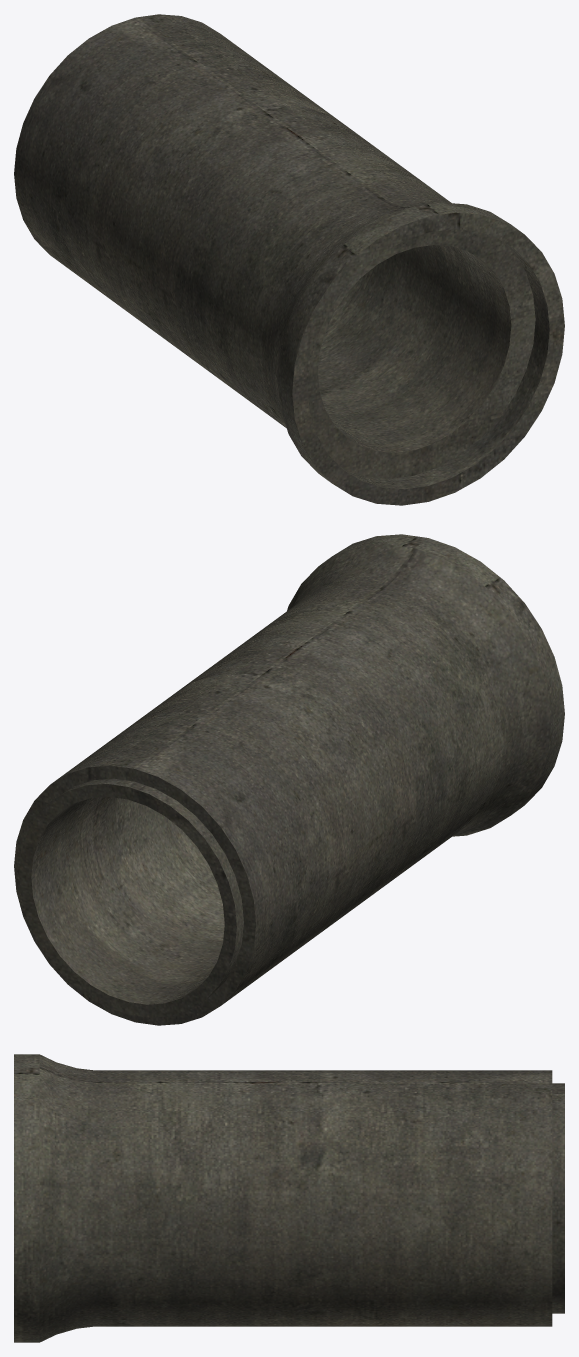
File: concrete_pipe_hm_1_end.obj
The picture shows the model from 3 angles, top to bottom: view 1: azimuth 30°, elevation 25°; view 2: azimuth 150°, elevation 25°; view 3: azimuth 270°, elevation 25°; orthographic projection. The views are drawn at different scales.
Visible parts, largest first — view 1: concrete_pipe_hm_1_end; view 2: concrete_pipe_hm_1_end; view 3: concrete_pipe_hm_1_end.
Part boxes in pixels (x1,y1,x2,y2): concrete_pipe_hm_1_end: (14,14,564,505); concrete_pipe_hm_1_end: (14,534,564,1025); concrete_pipe_hm_1_end: (14,1054,564,1342).
Bounding box in the file's own units: 2.25 × 2.25 × 4.3.
